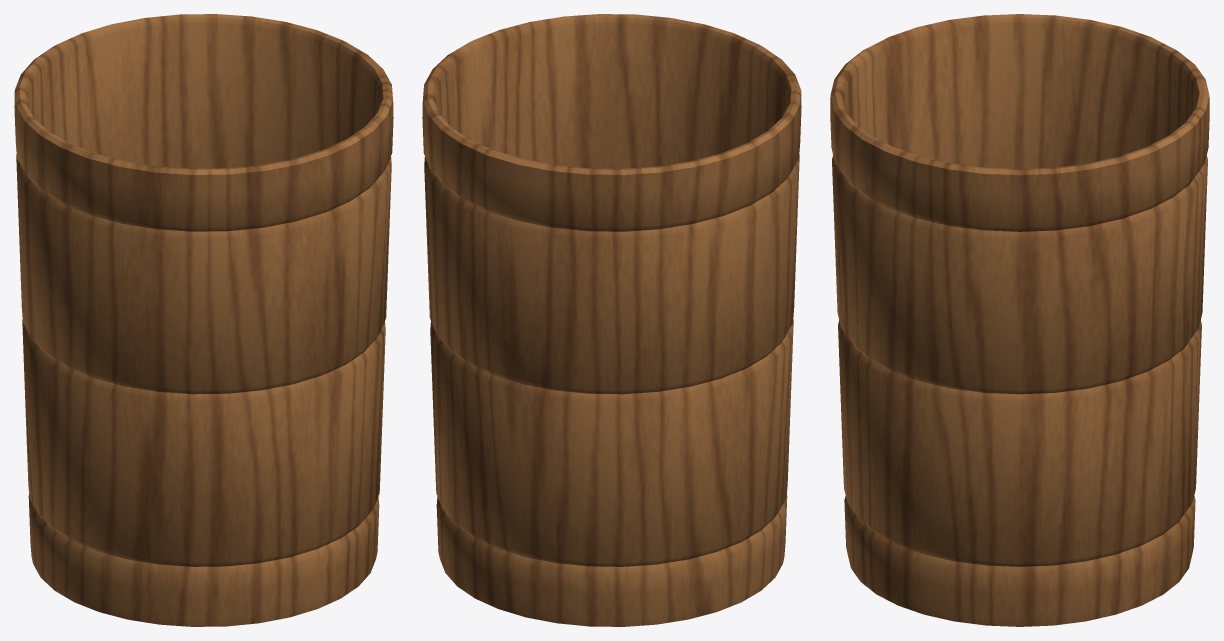
The model's file is Cup_Wood.fbx.
3 renders of one model, left to right at view 1: azimuth 30°, elevation 25°; view 2: azimuth 150°, elevation 25°; view 3: azimuth 270°, elevation 25°, orthographic.
Visible parts, largest first — view 1: Cup_Wood; view 2: Cup_Wood; view 3: Cup_Wood.
Boxes of the visible parts, x1,y1,x2,y2 form: Cup_Wood: (14,14,393,626); Cup_Wood: (422,14,801,626); Cup_Wood: (830,14,1209,626).
Bounding box in the file's own units: 0.6673 × 0.9 × 0.6673.
1 material, 1 textured.
